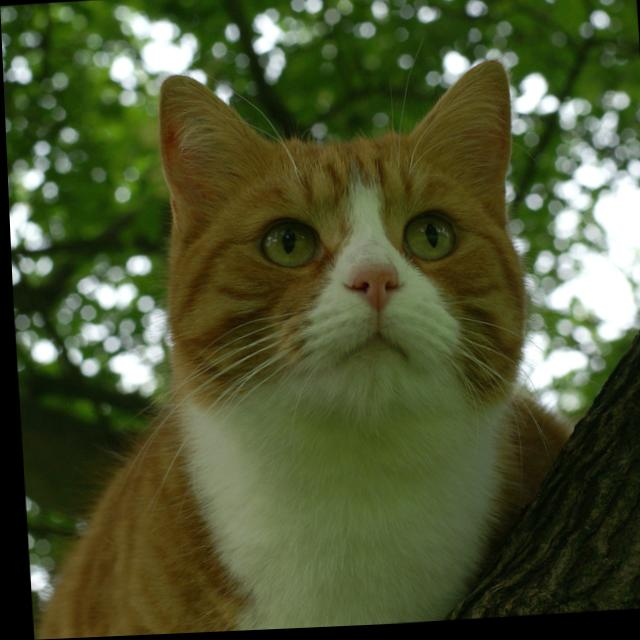animals: (169, 62, 504, 318)
